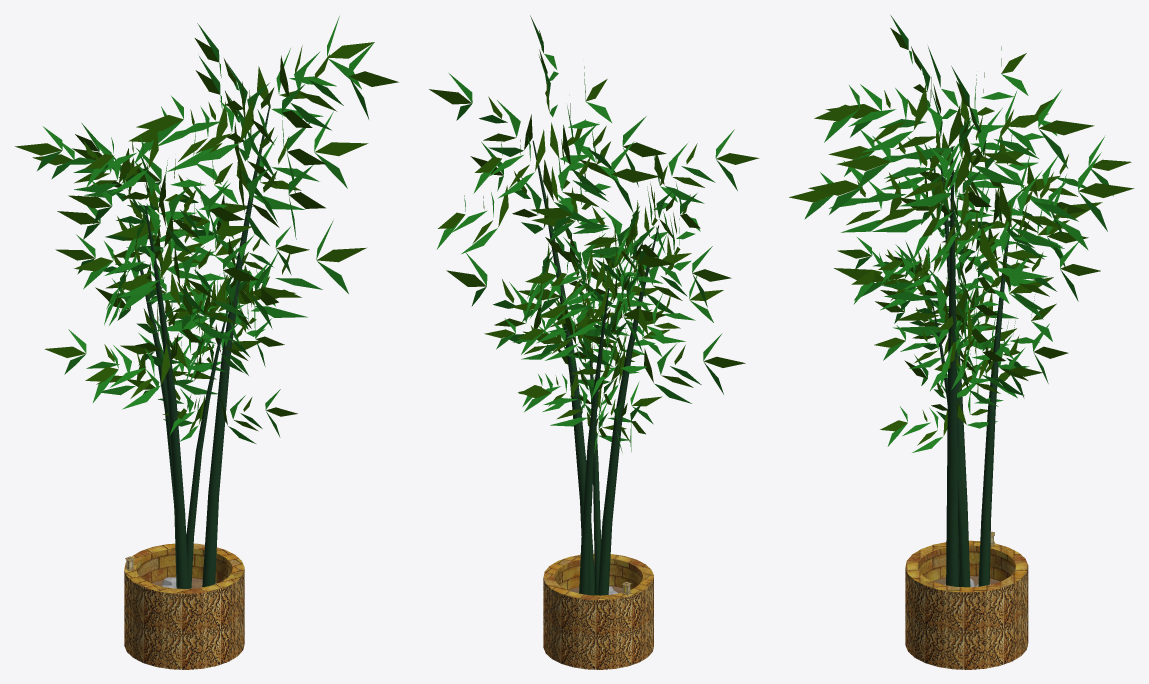
File: plant.glb
The picture shows the model from 3 angles, left to right: view 1: azimuth 30°, elevation 25°; view 2: azimuth 150°, elevation 25°; view 3: azimuth 270°, elevation 25°; orthographic projection. The views are drawn at different scales.
Parts seen in each view (by area): view 1: Material2 (×5); view 2: Material2 (×5); view 3: Material2 (×5).
Part boxes in pixels (x1,y1,x2,y2): Material2 (×5): [15, 16, 398, 669]; Material2 (×5): [429, 15, 759, 669]; Material2 (×5): [789, 15, 1134, 669].
Size of the model in its own units: 109 by 194 by 97.42.
Materials: 11 (4 with a texture image).
